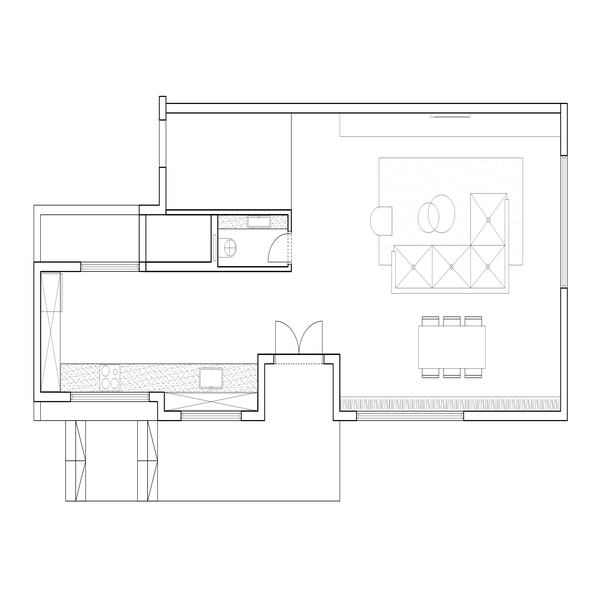door: (272, 314, 326, 364), (262, 230, 289, 265)
room: (328, 99, 567, 425), (31, 257, 265, 424), (160, 101, 295, 220)
wall: (164, 99, 561, 117), (30, 258, 46, 401), (557, 290, 571, 422), (464, 405, 557, 424), (327, 344, 345, 422), (137, 254, 221, 270), (28, 388, 83, 407), (32, 258, 84, 277), (207, 212, 222, 272), (157, 168, 176, 215), (559, 97, 573, 157), (256, 353, 267, 423)
window: (557, 159, 574, 291), (76, 388, 150, 406), (356, 411, 463, 421), (186, 407, 242, 424), (79, 258, 134, 274)
